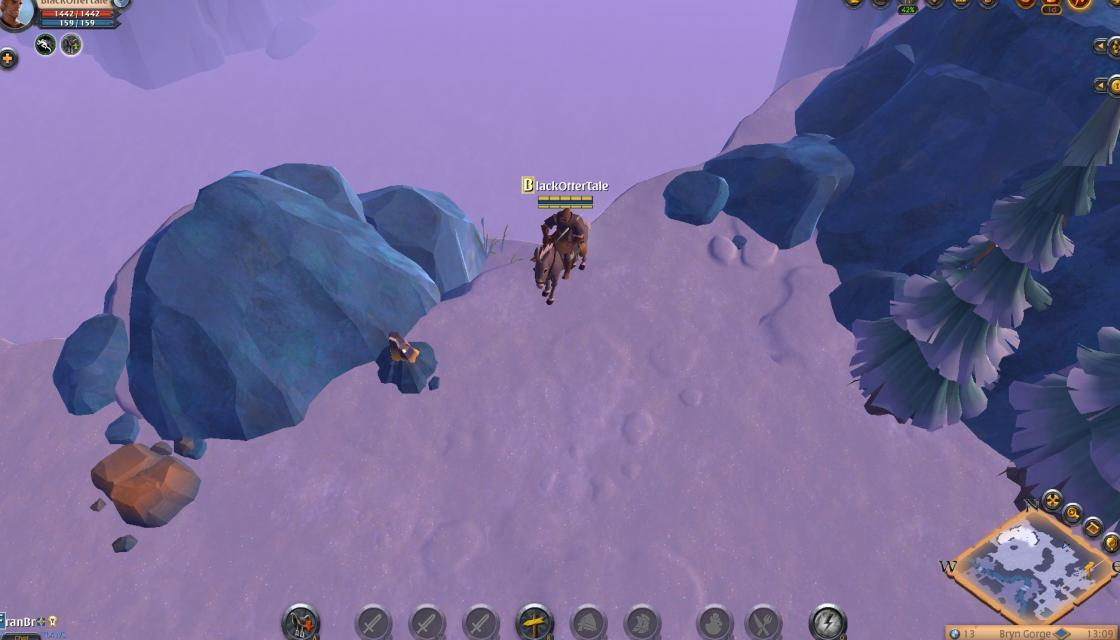copperore: (371, 330, 446, 392)
limestone: (87, 441, 200, 531)
